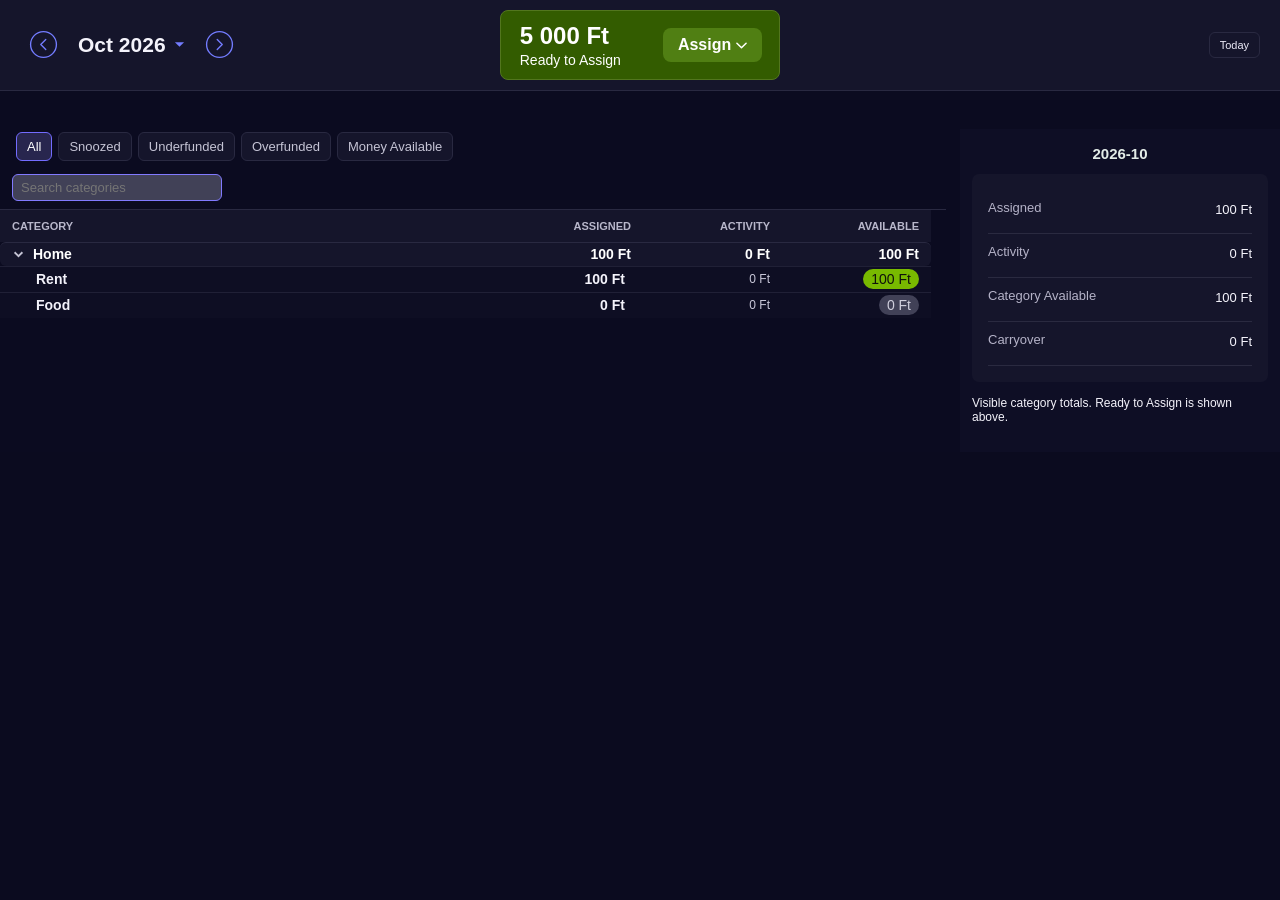
rejects a category whose Assigned value changed while the popup was open
This screenshot has width=1280, height=900.
Click the button "Assign".
click(713, 45)  # box [663,28,762,62]
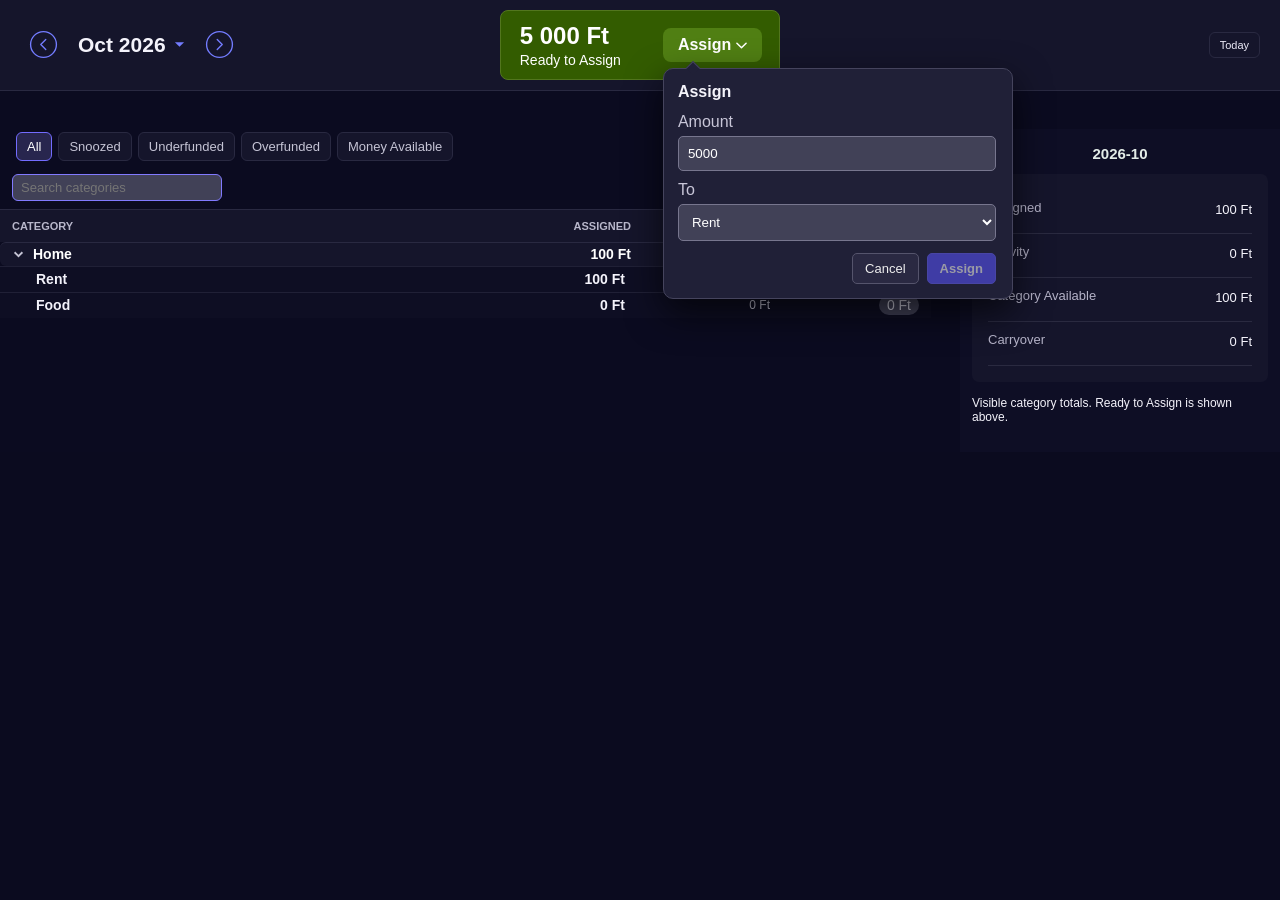
Select "Rent" in the dropdown named "Assign to category" at (837, 222), box [678,204,996,241]
Select "Rent" in the dropdown named "Assign to category" at (837, 222), box [678,204,996,241]
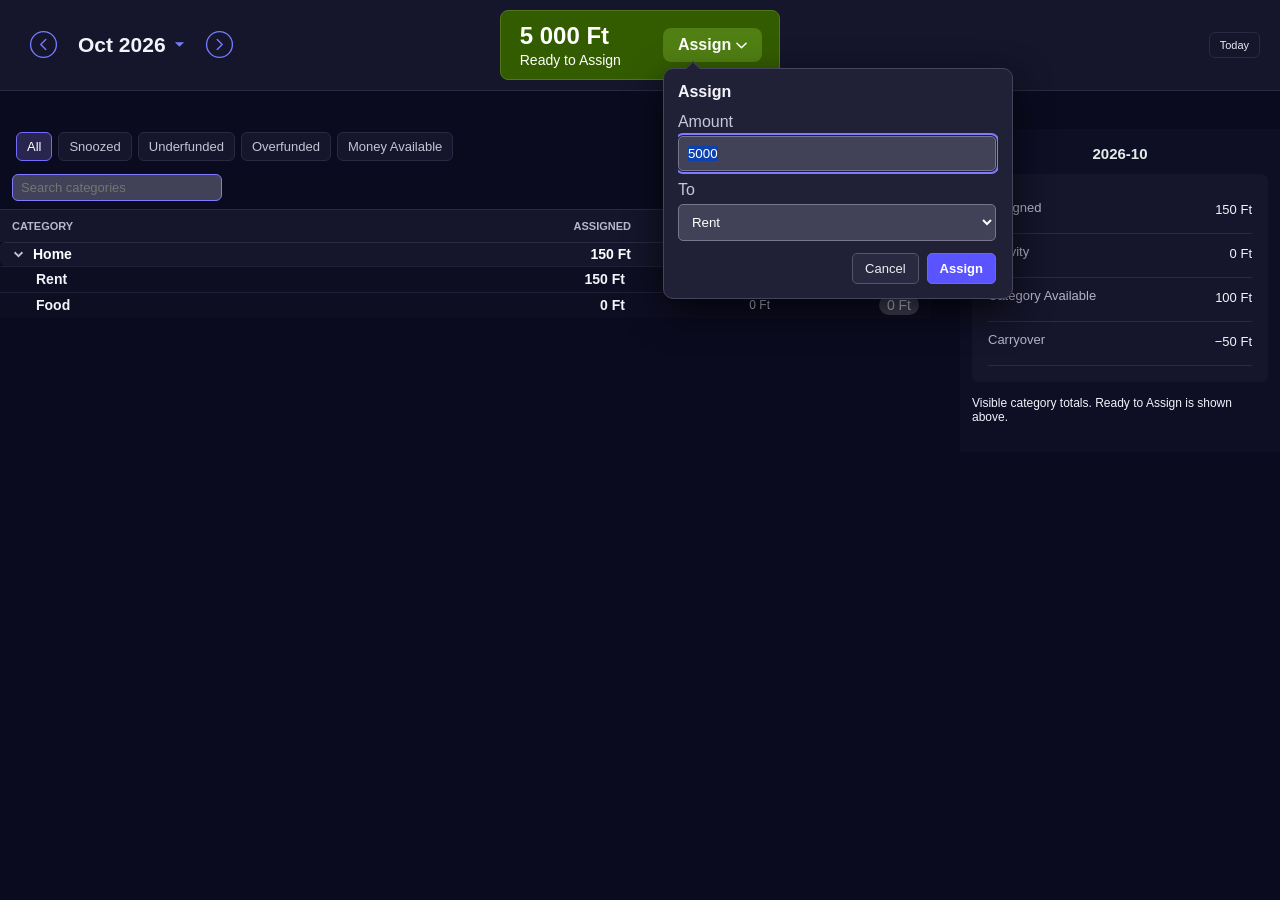
Submit the form with class "rta-assign-scroll", box [678,113,998,284]
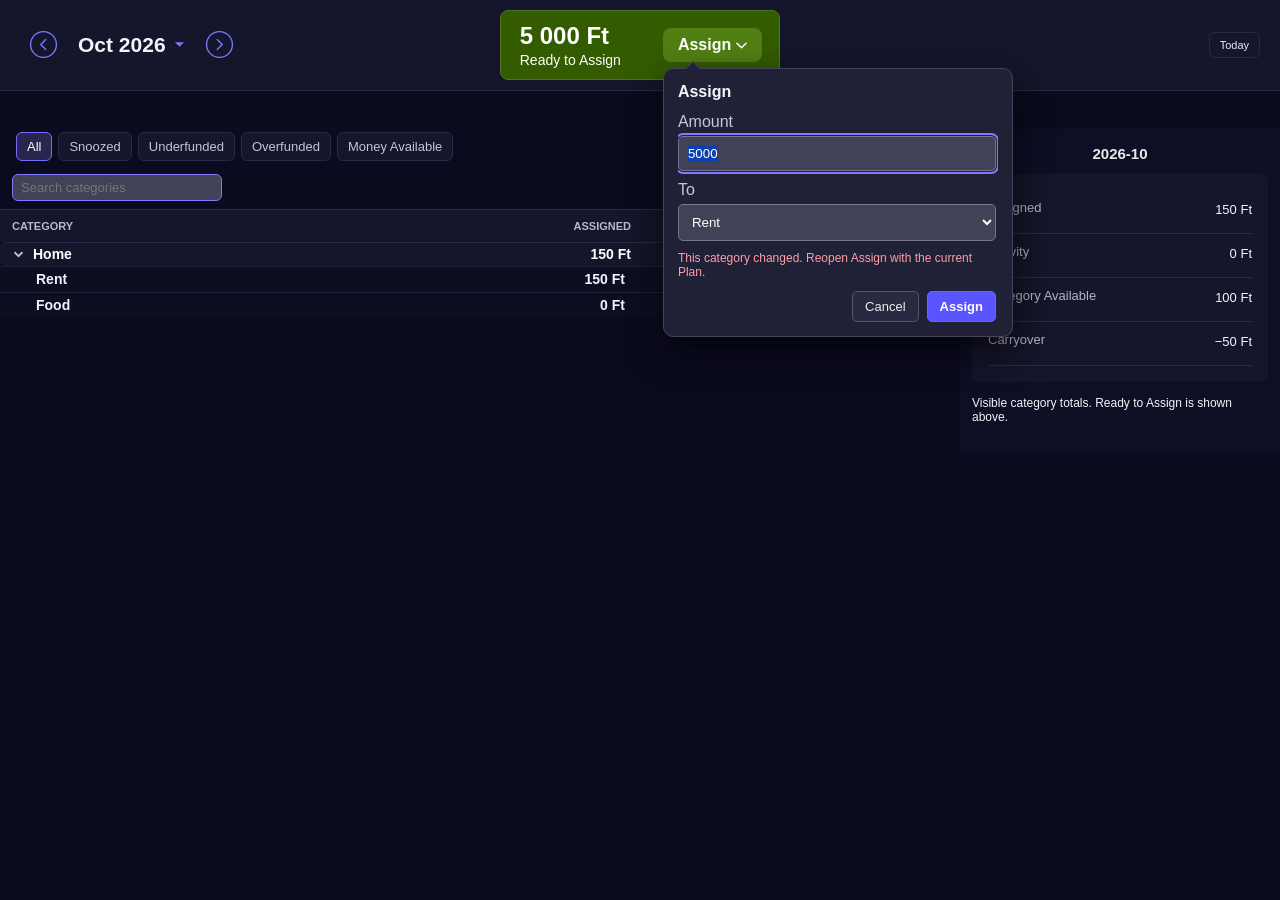
Now the message with class "rta-error" shows "This category changed", box [678,251,972,279]
